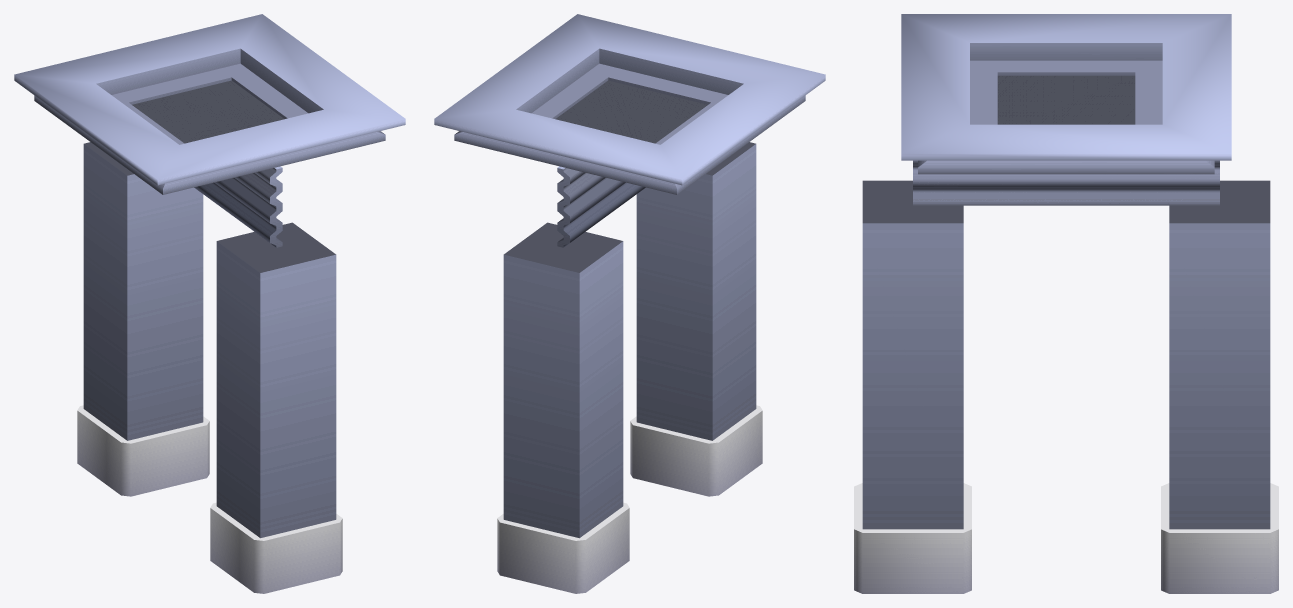
The model's file is plaza-gate.glb.
3 renders of one model, left to right at view 1: azimuth 30°, elevation 25°; view 2: azimuth 150°, elevation 25°; view 3: azimuth 270°, elevation 25°, orthographic. The views are drawn at different scales.
Parts seen in each view (by area): view 1: column-wide (×2), roof-flat-square, plating-wide; view 2: column-wide (×2), roof-flat-square, plating-wide; view 3: column-wide (×2), roof-flat-square, plating-wide.
Boxes of the visible parts, bbox=[...] form: column-wide (×2): bbox=[77, 142, 342, 593]; roof-flat-square: bbox=[14, 14, 405, 194]; plating-wide: bbox=[194, 166, 282, 247]; column-wide (×2): bbox=[497, 142, 762, 593]; roof-flat-square: bbox=[434, 14, 825, 194]; plating-wide: bbox=[557, 166, 645, 247]; column-wide (×2): bbox=[854, 180, 1278, 593]; roof-flat-square: bbox=[901, 14, 1231, 174]; plating-wide: bbox=[913, 160, 1219, 205].
Size of the model in its own units: 4.31 by 6.98 by 5.54.
1 material, 1 textured.
